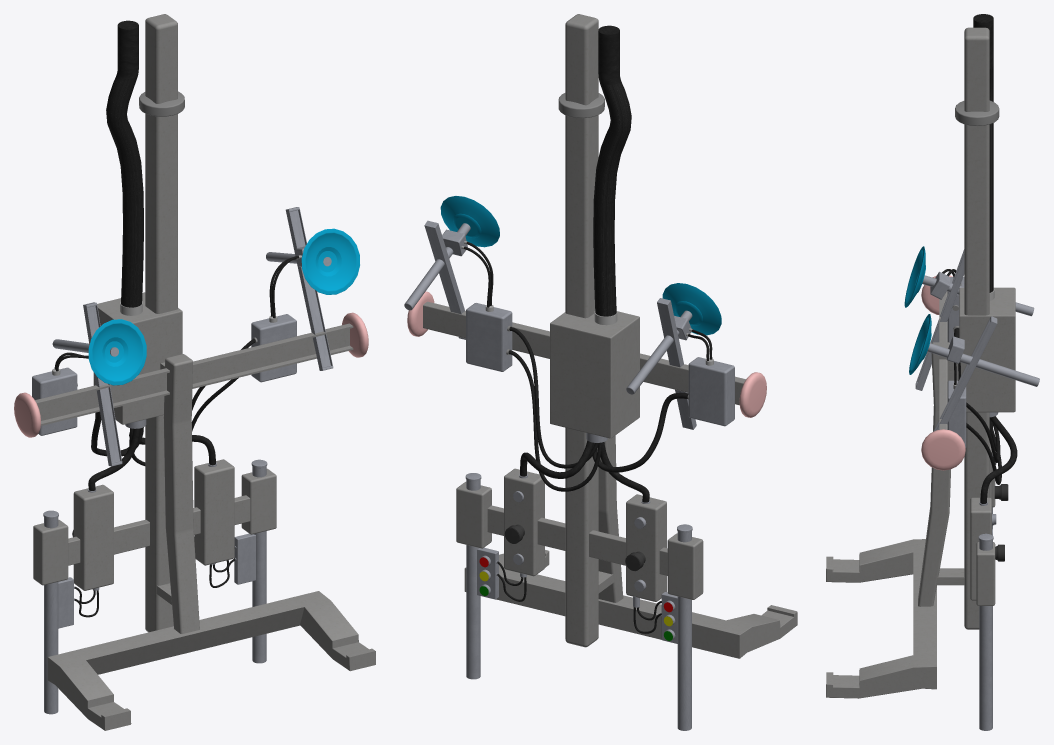
File: assembly_machine_01.fbx
3 renders of one model, left to right at view 1: azimuth 30°, elevation 25°; view 2: azimuth 150°, elevation 25°; view 3: azimuth 270°, elevation 25°, orthographic. The views are drawn at different scales.
Parts seen in each view (by area): view 1: door_assembly_machine2; view 2: door_assembly_machine2; view 3: door_assembly_machine2.
Part boxes in pixels (<box>): door_assembly_machine2: <box>14,14,375,730</box>; door_assembly_machine2: <box>404,14,797,730</box>; door_assembly_machine2: <box>826,14,1039,730</box>.
Bounding box in the file's own units: 814 × 1549 × 463.
14 materials, 5 textured.
